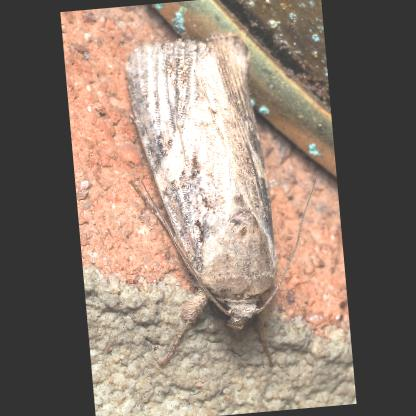Fall Armyworm Moth: (111, 21, 336, 384)
